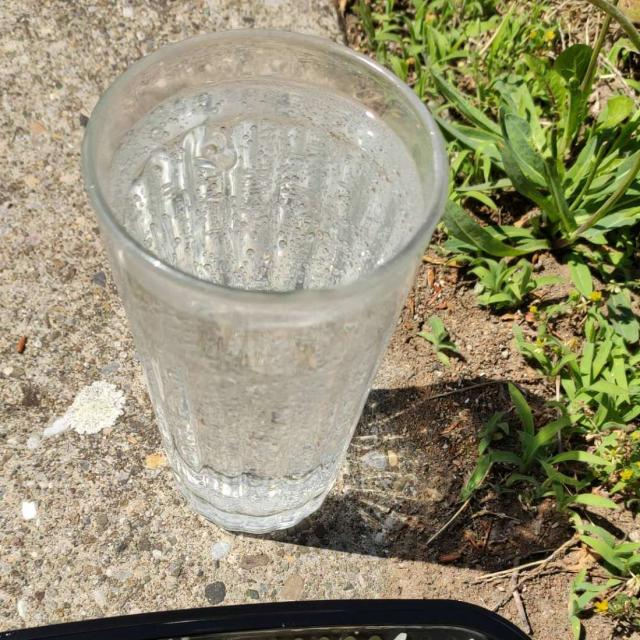water-mineral: (102, 64, 423, 518)
